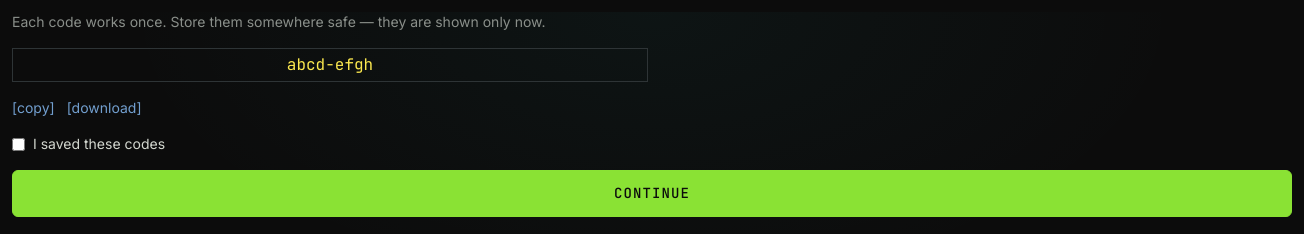
Test case: tells the user to download when copying fails
Click the button "[copy]" at {"x": 33, "y": 108}, box top-left (12, 98), bottom-right (55, 118)
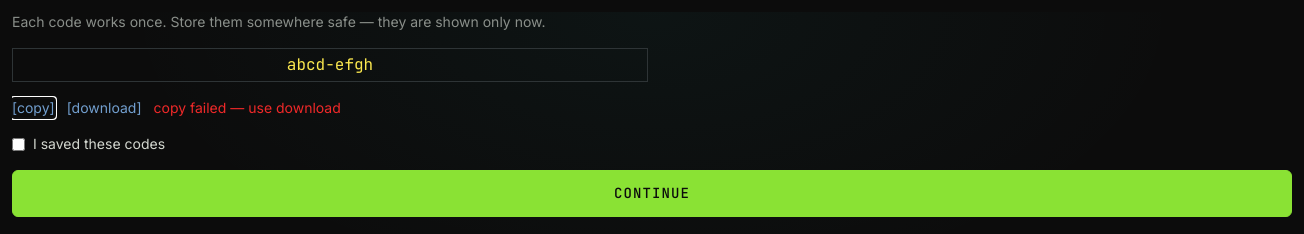
Expected: the message reads "copy failed — use download", top-left (154, 99), bottom-right (341, 116)
